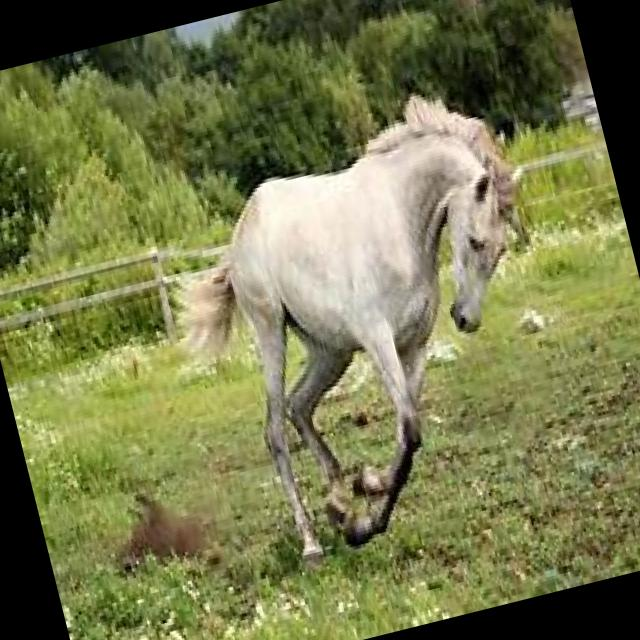animal: (132, 68, 604, 591)
